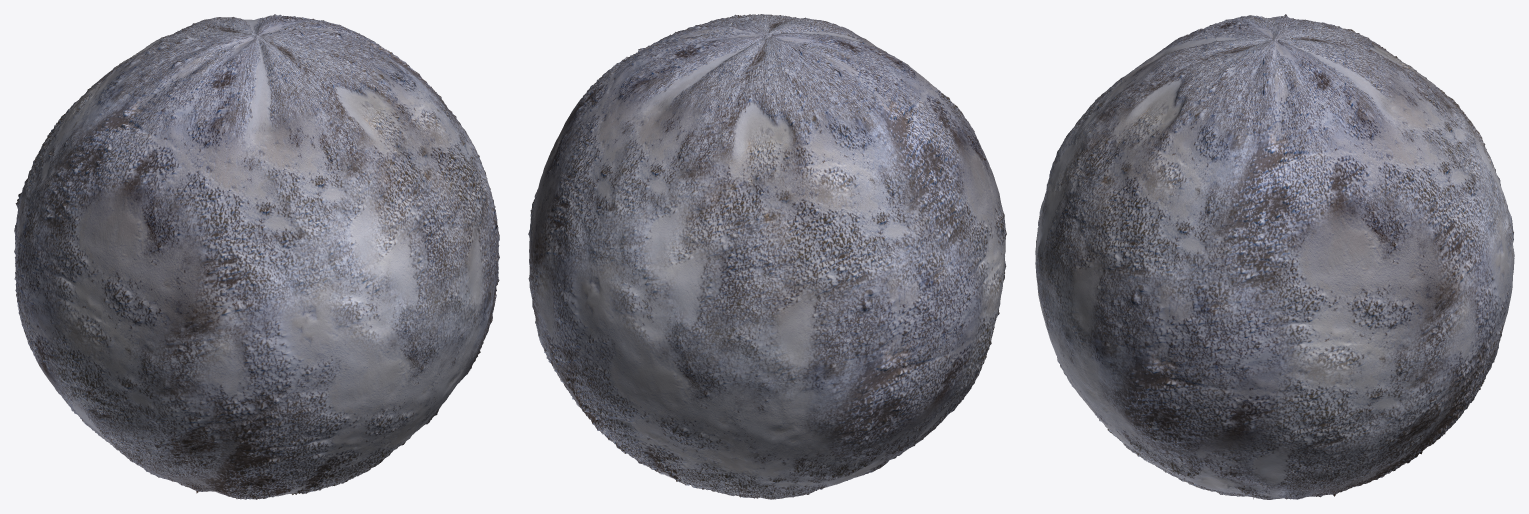
File: snow_field_aerial_2k.gltf
3 renders of one model, left to right at view 1: azimuth 30°, elevation 25°; view 2: azimuth 150°, elevation 25°; view 3: azimuth 270°, elevation 25°, orthographic.
Visible parts, largest first — view 1: sphere_gltf; view 2: sphere_gltf; view 3: sphere_gltf.
Part boxes in pixels (<box>): sphere_gltf: <box>14,14,499,499</box>; sphere_gltf: <box>528,14,1006,499</box>; sphere_gltf: <box>1035,14,1514,499</box>.
Size of the model in its own units: 81.2 by 83.1 by 79.75.
1 material, 1 textured.
